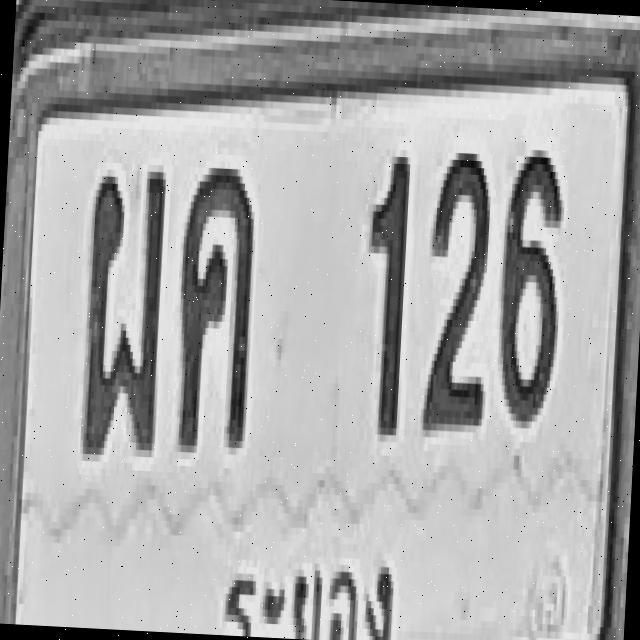1: (342, 113, 431, 506)
13KhorKhwai: (168, 141, 266, 489)
2: (418, 121, 504, 456)
37PhorPhueng: (64, 118, 180, 479)
6: (482, 138, 578, 461)
Rayong: (212, 529, 398, 640)
